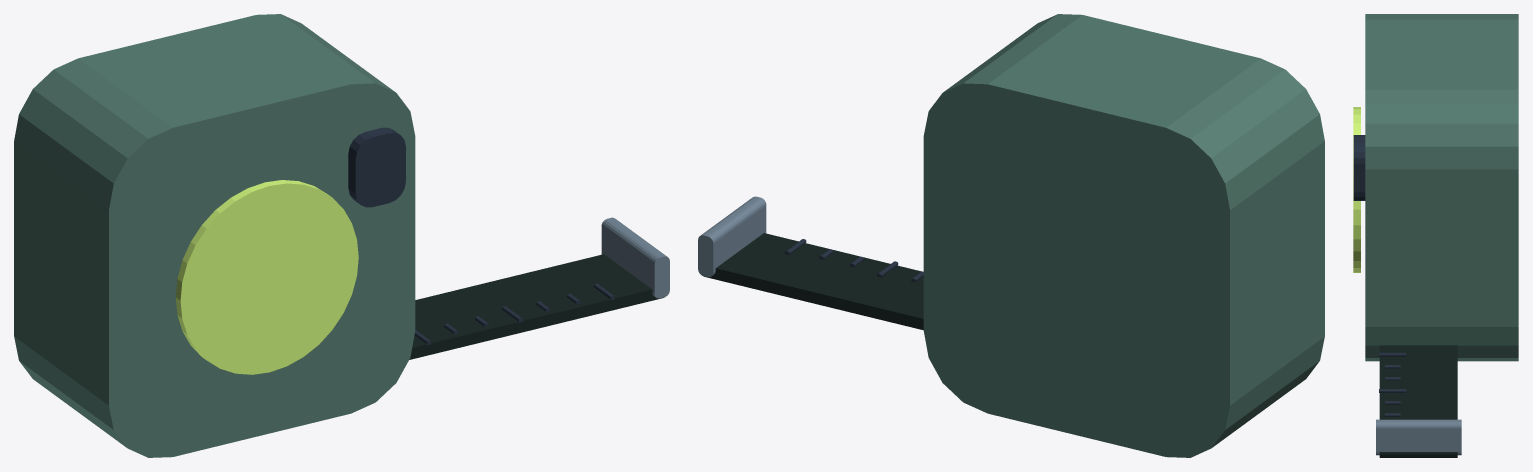
The model's file is taperule.glb.
The picture shows the model from 3 angles, left to right: view 1: azimuth 30°, elevation 25°; view 2: azimuth 150°, elevation 25°; view 3: azimuth 270°, elevation 25°; orthographic projection. The views are drawn at different scales.
Visible parts, largest first — view 1: housing, case inset, blade, lock button, end hook; view 2: housing, blade, end hook; view 3: housing, blade, end hook, case inset, lock button.
Boxes of the visible parts, box(x1,y1,x2,y2) form: housing: box(14, 14, 415, 457); case inset: box(175, 180, 358, 374); blade: box(409, 254, 664, 359); lock button: box(348, 127, 405, 207); end hook: box(601, 217, 669, 298); housing: box(923, 14, 1324, 457); blade: box(703, 233, 923, 330); end hook: box(698, 196, 766, 277); housing: box(1365, 14, 1518, 361); blade: box(1379, 345, 1457, 457); end hook: box(1376, 419, 1461, 455); case inset: box(1353, 107, 1360, 272); lock button: box(1353, 135, 1365, 200).
Bounding box in the file's own units: 2.04 × 1.13 × 0.637.
